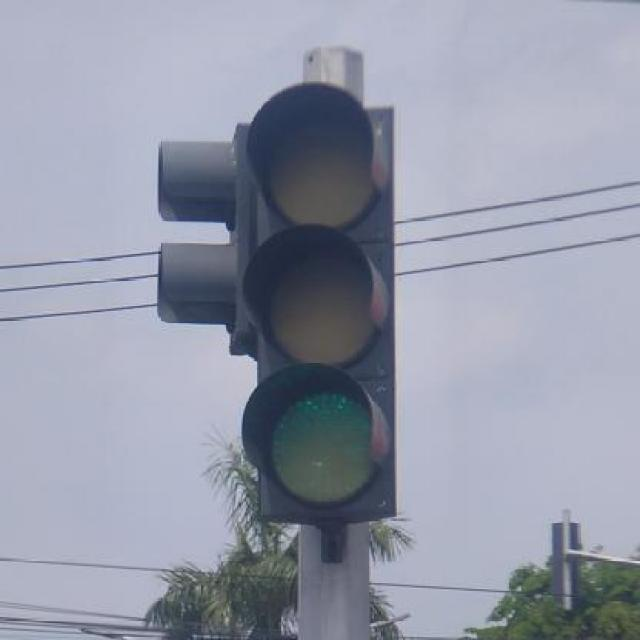traffic light: (243, 102, 400, 532)
